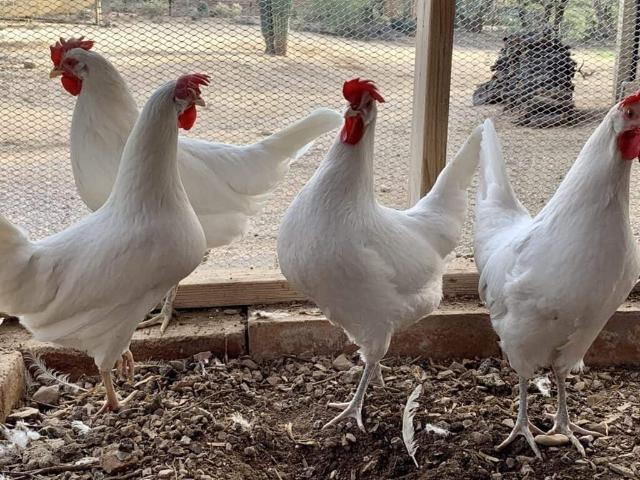Chicken: (48, 36, 343, 330), (276, 77, 487, 432), (0, 74, 212, 413), (473, 90, 640, 458)
